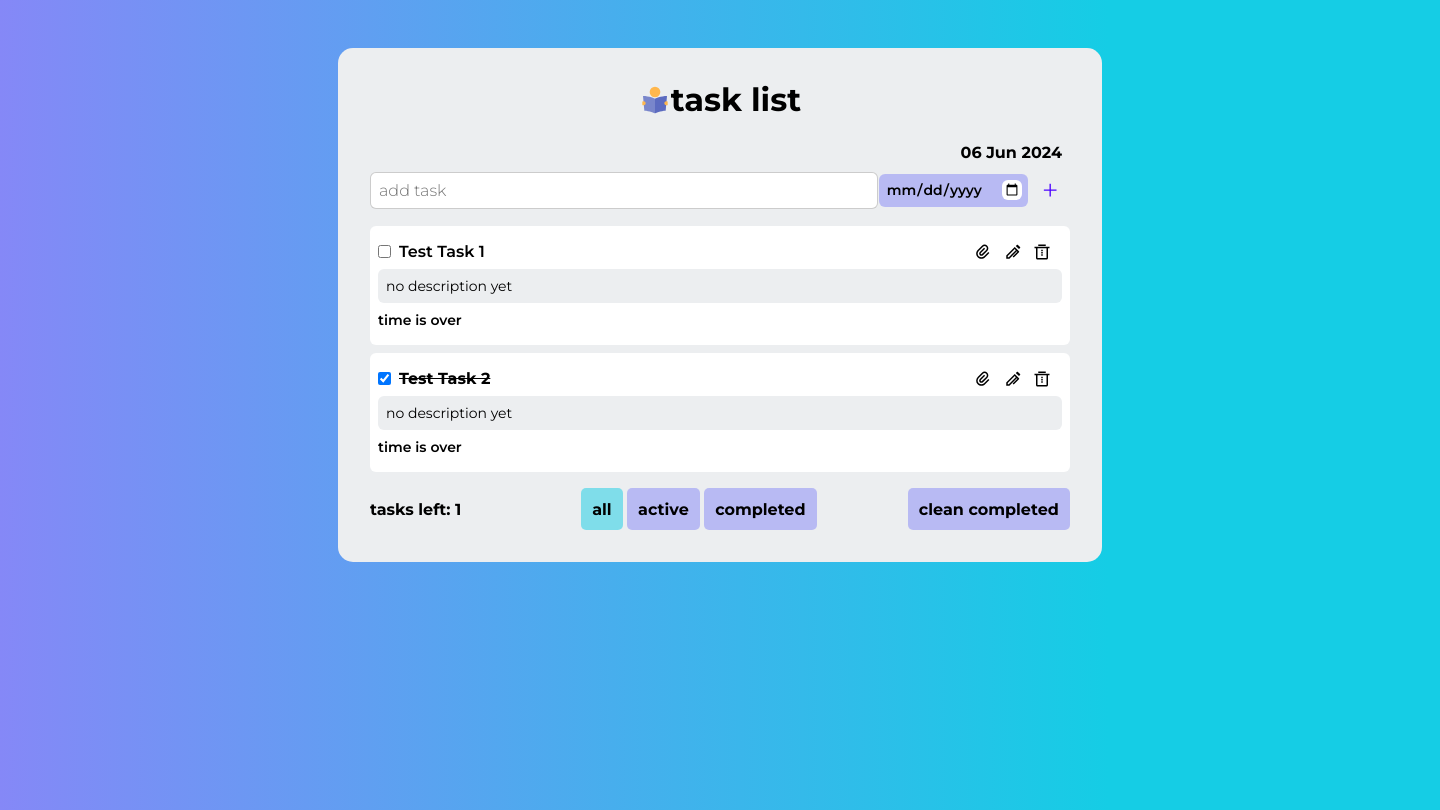
Scenario: filter tasks by active and completed
What coordinates should you click on to do the following:
click the button with id "active-filter-button"
I would click on:
 (663, 509)
Its box is [627,488,700,530].
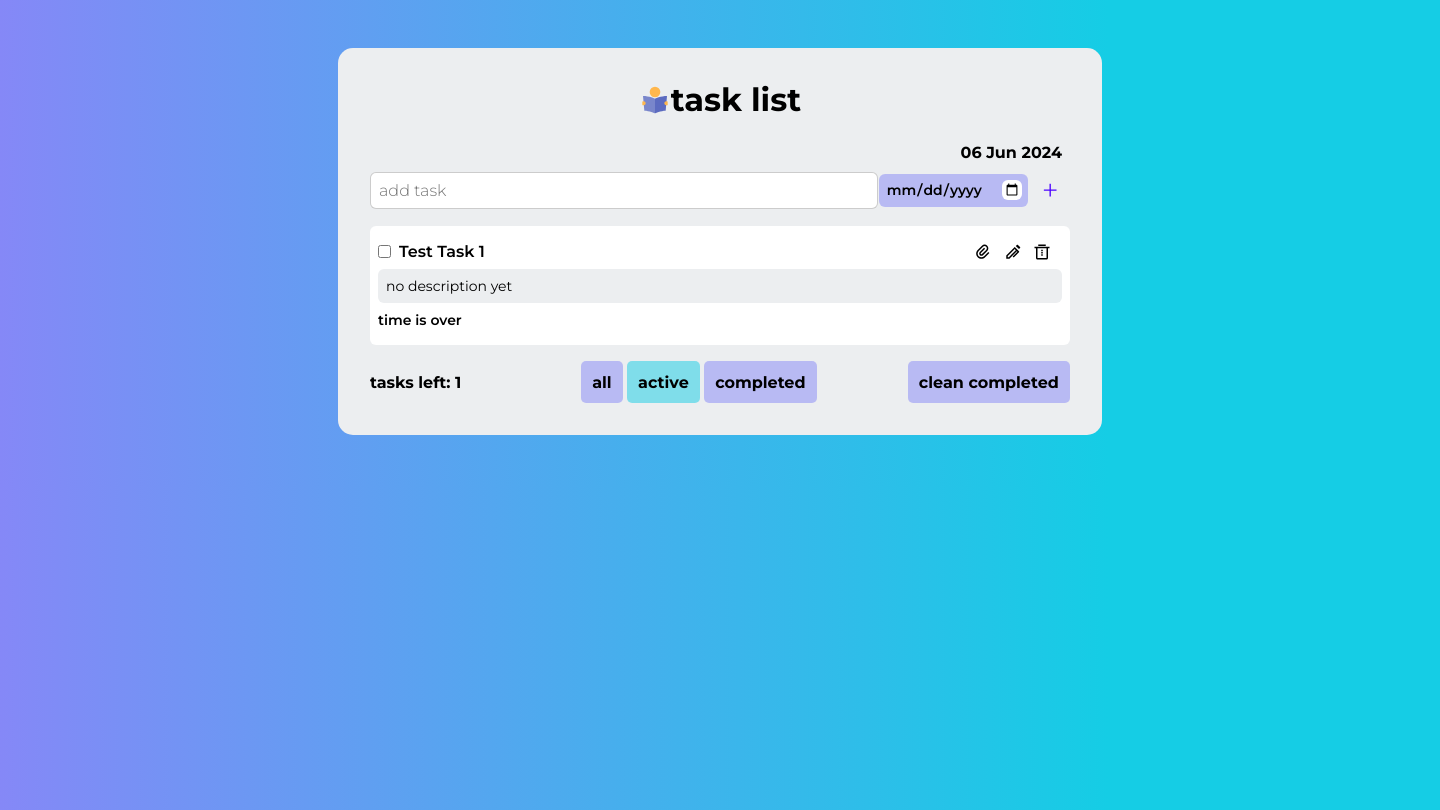
Expected: the heading "Test Task 1" is shown, [399,242,485,261]
Expected: the heading "Test Task 2" is gone
What coordinates should you click on to do the following:
click the button with id "completed-filter-button"
I would click on:
 (760, 382)
Its box is [704,361,817,403].
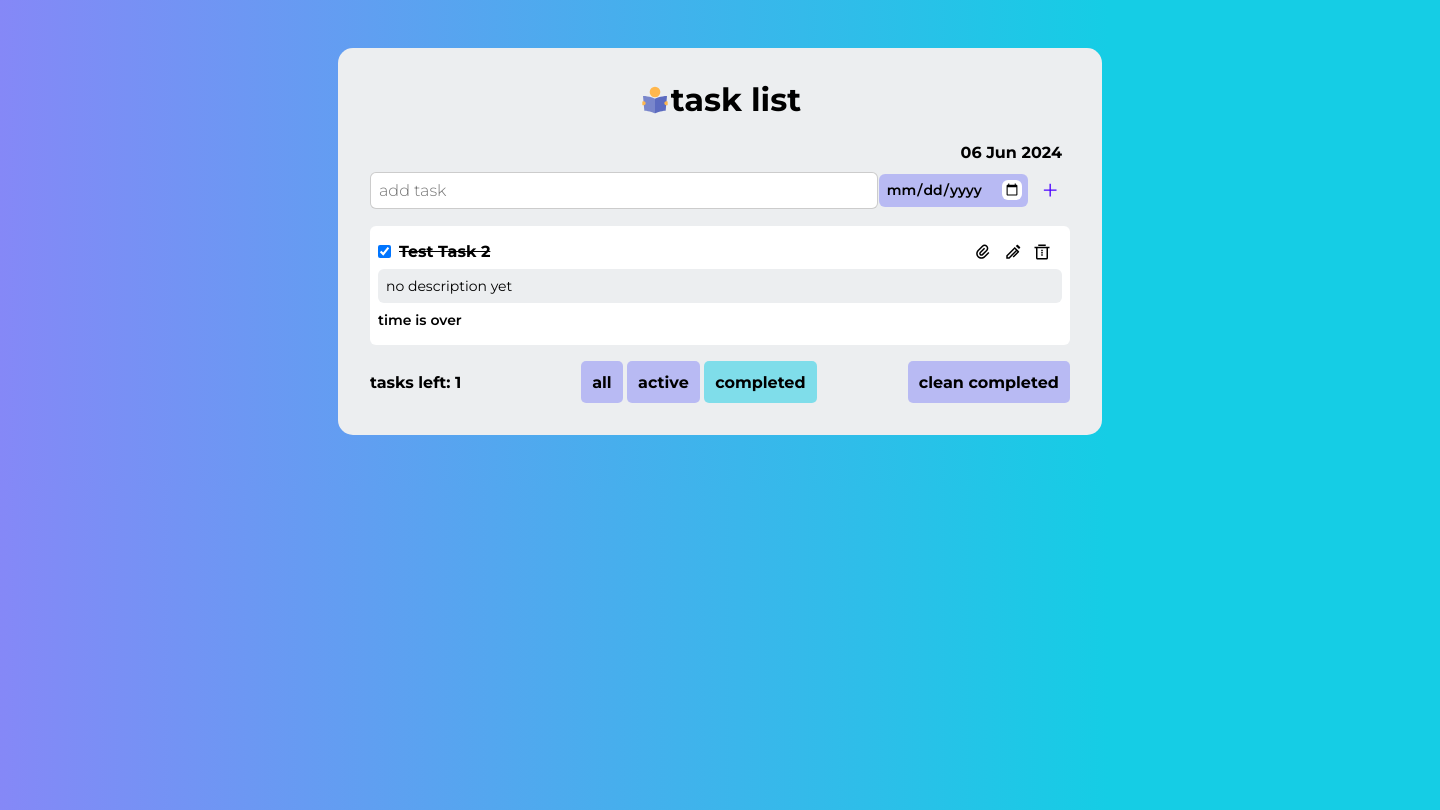
Expected: the heading "Test Task 1" is gone
Expected: the heading "Test Task 2" is shown, [399,242,490,261]
